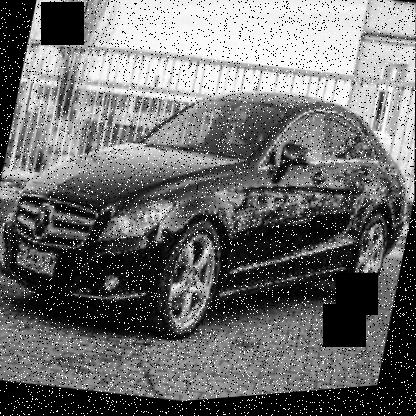not_emergency: (0, 39, 415, 399)
